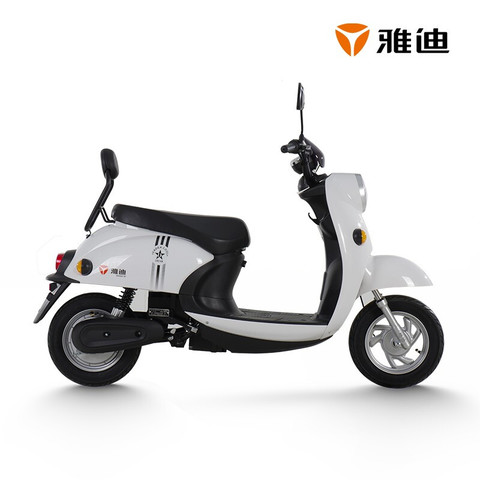MNV: (33, 137, 444, 387)
